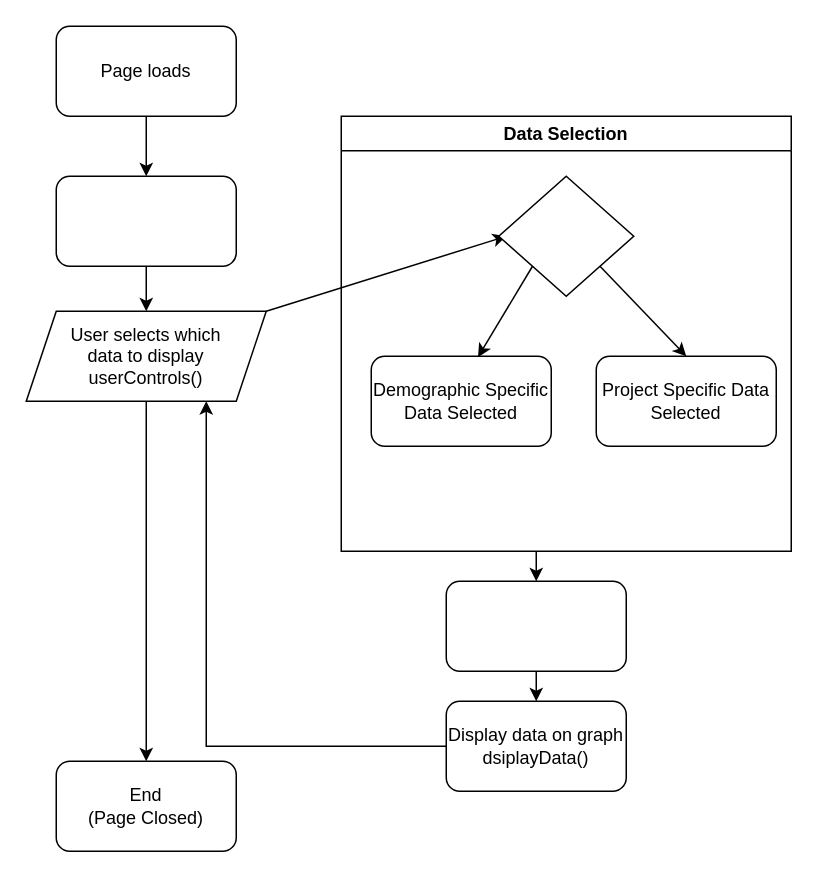
Some shapes in this 818 by 878 pixel diagram are drawn without their labels. The centre of each missing label's shape, as x and y in pixels:
"Data processed processData()" belongs at pixel 535 625.
"Data retrieved retrieveData()" belongs at pixel 145 220.
"Data selected" belongs at pixel 565 235.
